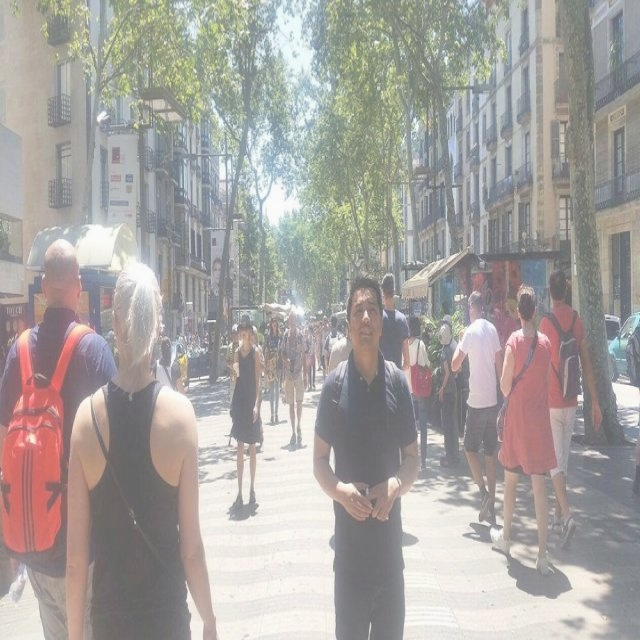pessoa: (63, 257, 226, 639), (0, 236, 118, 639), (311, 269, 421, 639), (487, 282, 557, 578), (536, 266, 604, 552), (450, 290, 504, 528), (228, 311, 262, 509), (402, 313, 434, 473), (280, 306, 306, 444), (378, 271, 411, 371), (436, 323, 457, 467), (440, 312, 460, 460), (626, 318, 640, 512), (247, 325, 266, 453), (211, 248, 236, 344), (150, 334, 187, 398), (266, 312, 284, 424), (326, 320, 352, 386), (323, 312, 345, 376), (225, 322, 242, 404), (174, 322, 212, 356), (105, 328, 119, 375), (308, 326, 318, 391), (302, 328, 312, 390), (320, 316, 330, 372), (312, 321, 324, 367), (258, 320, 270, 348), (151, 337, 161, 369), (298, 314, 308, 334), (308, 314, 317, 329), (279, 320, 286, 338)
